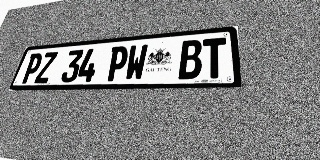3: (60, 49, 84, 83)
4: (76, 48, 100, 82)
B: (178, 39, 202, 79)
P: (105, 46, 129, 81), (20, 53, 44, 84)
T: (202, 37, 227, 79)
W: (124, 44, 148, 81)
Z: (34, 52, 58, 83)
